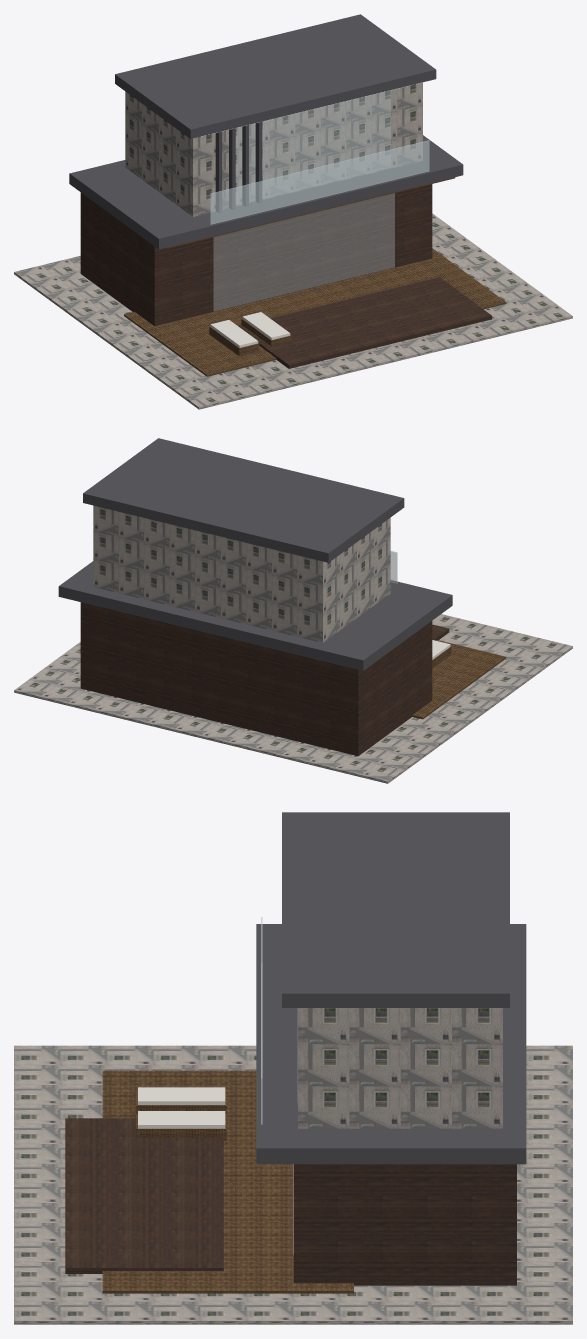
Rendered from fachada-deck-lazer.glb.
The picture shows the model from 3 angles, top to bottom: view 1: azimuth 30°, elevation 25°; view 2: azimuth 150°, elevation 25°; view 3: azimuth 270°, elevation 25°; orthographic projection. The views are drawn at different scales.
Parts seen in each view (by area): view 1: node_ceramica_acetinada, node_pedra_bancada_clearcoat, node_metal_matte_black, node_vidro_pele_de_vidro, node_madeira_deck_natural, node_tecido_juta_linho; view 2: node_ceramica_acetinada, node_metal_matte_black, node_pedra_bancada_clearcoat, node_madeira_deck_natural; view 3: node_ceramica_acetinada, node_metal_matte_black, node_pedra_bancada_clearcoat, node_madeira_deck_natural, node_tecido_juta_linho.
Part boxes in pixels (x1=…): node_ceramica_acetinada: x1=14, y1=82, x2=572, y2=409; node_pedra_bancada_clearcoat: x1=80, y1=184, x2=491, y2=368; node_metal_matte_black: x1=69, y1=14, x2=463, y2=249; node_vidro_pele_de_vidro: x1=210, y1=90, x2=429, y2=311; node_madeira_deck_natural: x1=124, y1=177, x2=506, y2=376; node_tecido_juta_linho: x1=210, y1=312, x2=290, y2=347; node_ceramica_acetinada: x1=14, y1=505, x2=572, y2=783; node_metal_matte_black: x1=58, y1=438, x2=452, y2=670; node_pedra_bancada_clearcoat: x1=80, y1=602, x2=449, y2=756; node_madeira_deck_natural: x1=412, y1=640, x2=506, y2=719; node_ceramica_acetinada: x1=14, y1=1008, x2=572, y2=1324; node_metal_matte_black: x1=256, y1=812, x2=526, y2=1164; node_pedra_bancada_clearcoat: x1=65, y1=1118, x2=516, y2=1285; node_madeira_deck_natural: x1=102, y1=1070, x2=353, y2=1293; node_tecido_juta_linho: x1=138, y1=1087, x2=225, y2=1128.
Bounding box in the file's own units: 14 × 7 × 12.
8 materials, 3 textured.
